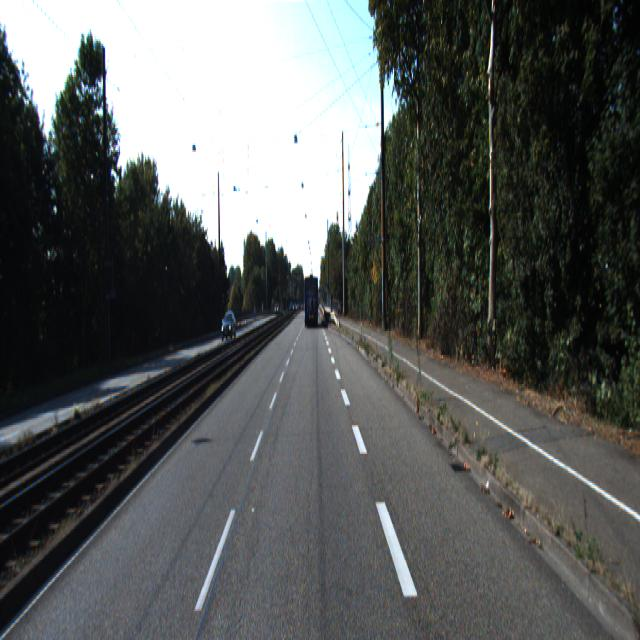Car: (304, 274, 318, 328), (220, 314, 237, 343)
